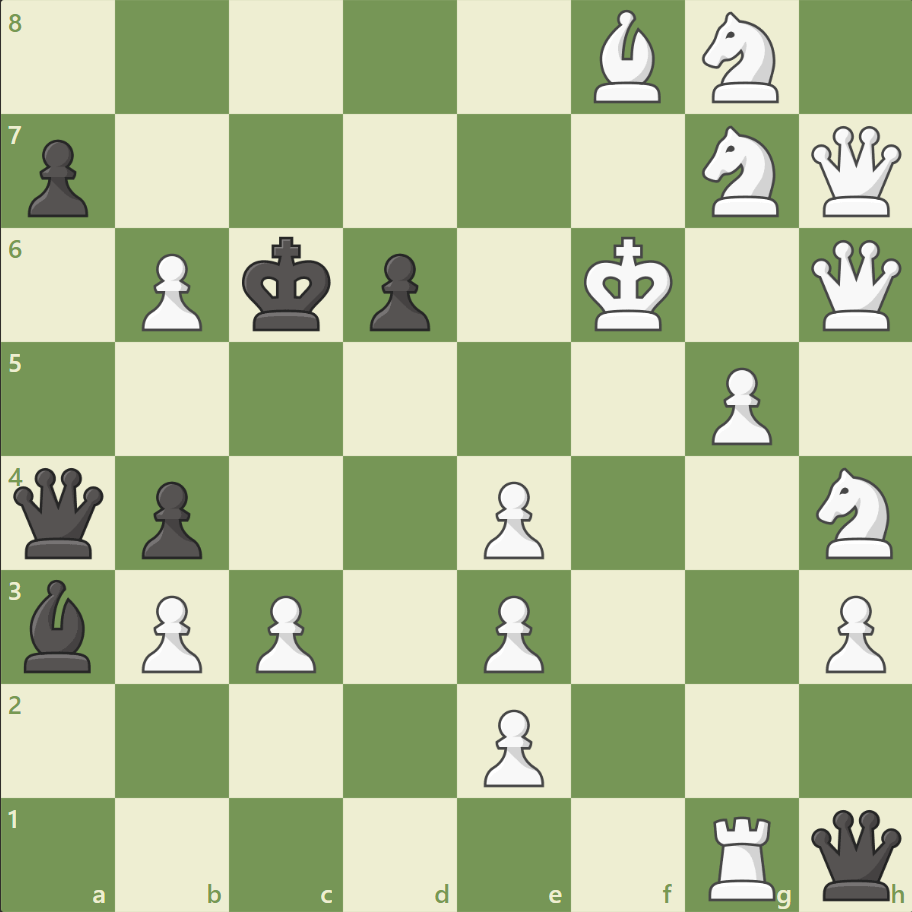B: (585, 6, 669, 109)
K: (579, 231, 679, 339)
N: (692, 7, 789, 110), (806, 461, 903, 564), (692, 121, 789, 223)
P: (133, 246, 208, 337), (701, 359, 776, 450), (474, 473, 549, 564), (133, 586, 208, 677), (247, 586, 322, 677), (474, 586, 549, 677), (474, 700, 549, 791), (815, 586, 889, 677)
Q: (805, 122, 904, 222), (805, 236, 904, 335)
R: (700, 806, 783, 904)
b: (17, 574, 101, 676)
k: (238, 231, 338, 339)
p: (20, 132, 95, 223), (133, 473, 208, 564), (361, 246, 435, 337)
q: (10, 463, 109, 562), (805, 804, 904, 903)
